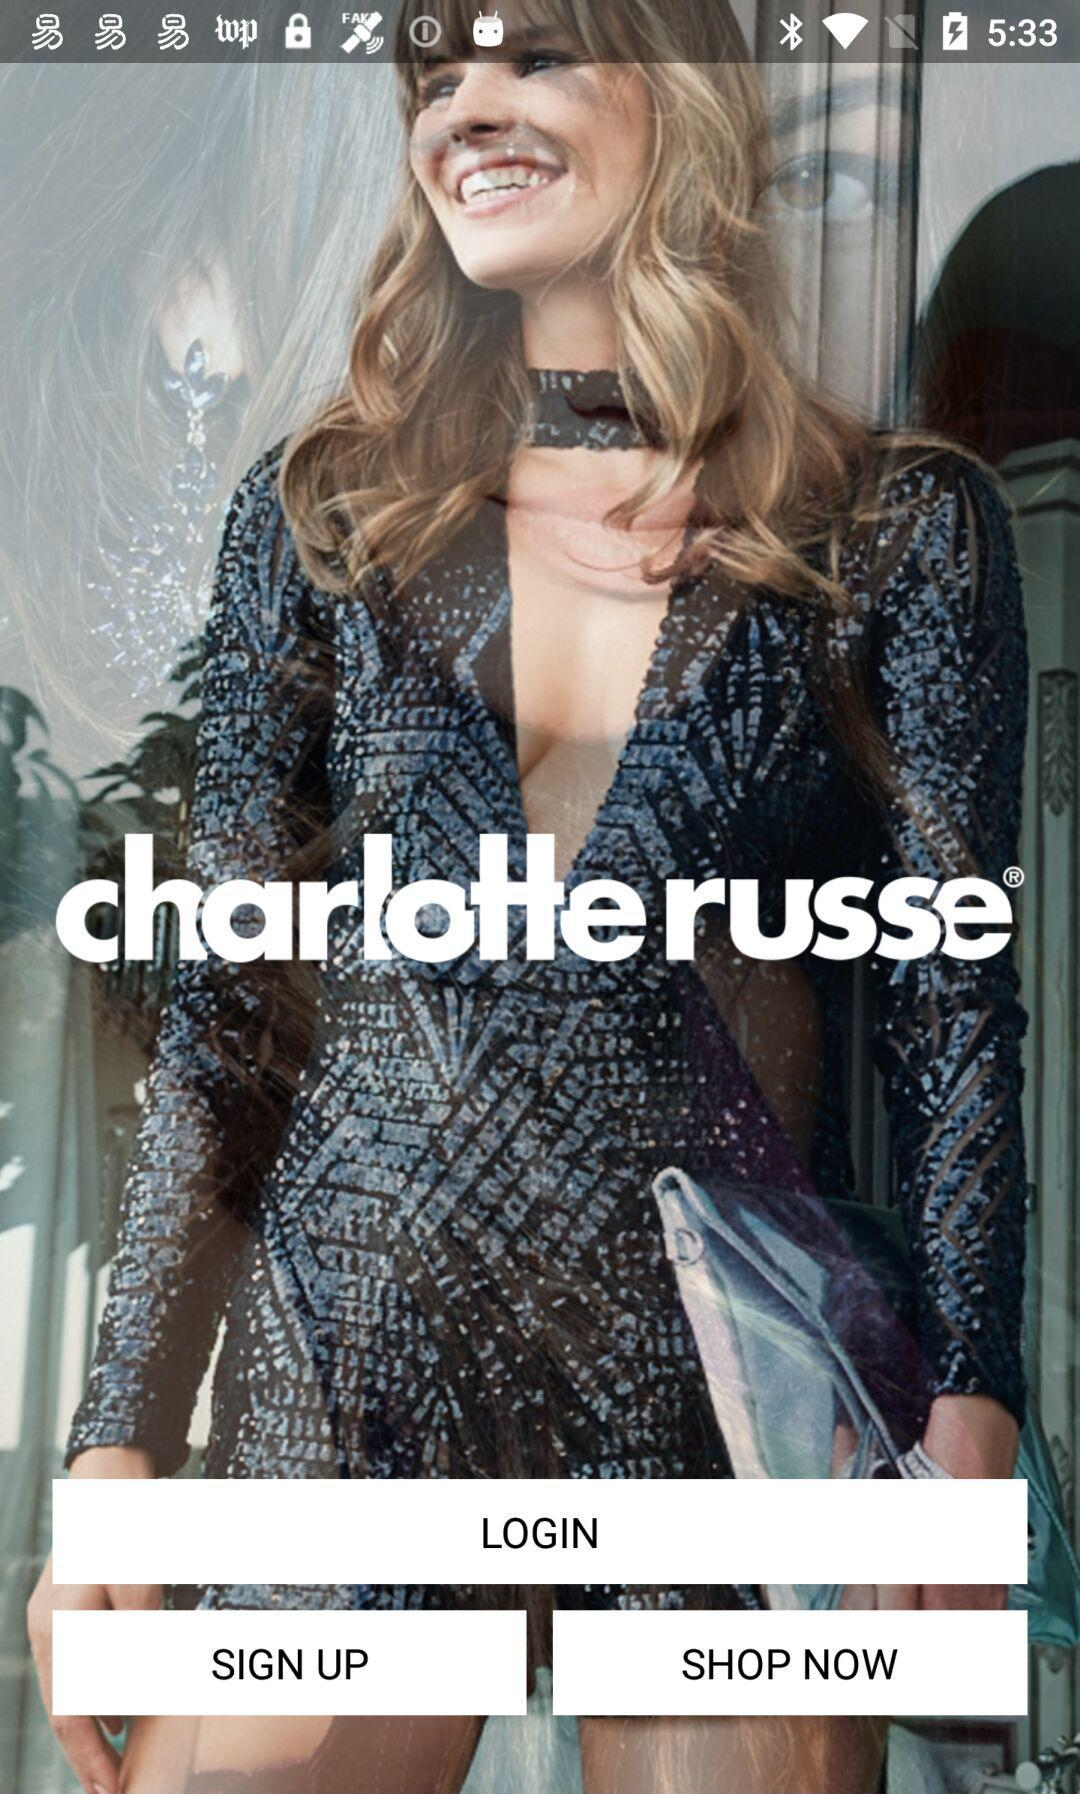BackgroundImage: (1, 64, 1080, 1794)
Image: (54, 832, 1026, 964)
TextButton: (53, 1477, 1027, 1585), (53, 1609, 528, 1716), (553, 1609, 1027, 1716)
UpperTaskBar: (1, 1, 1080, 64)
